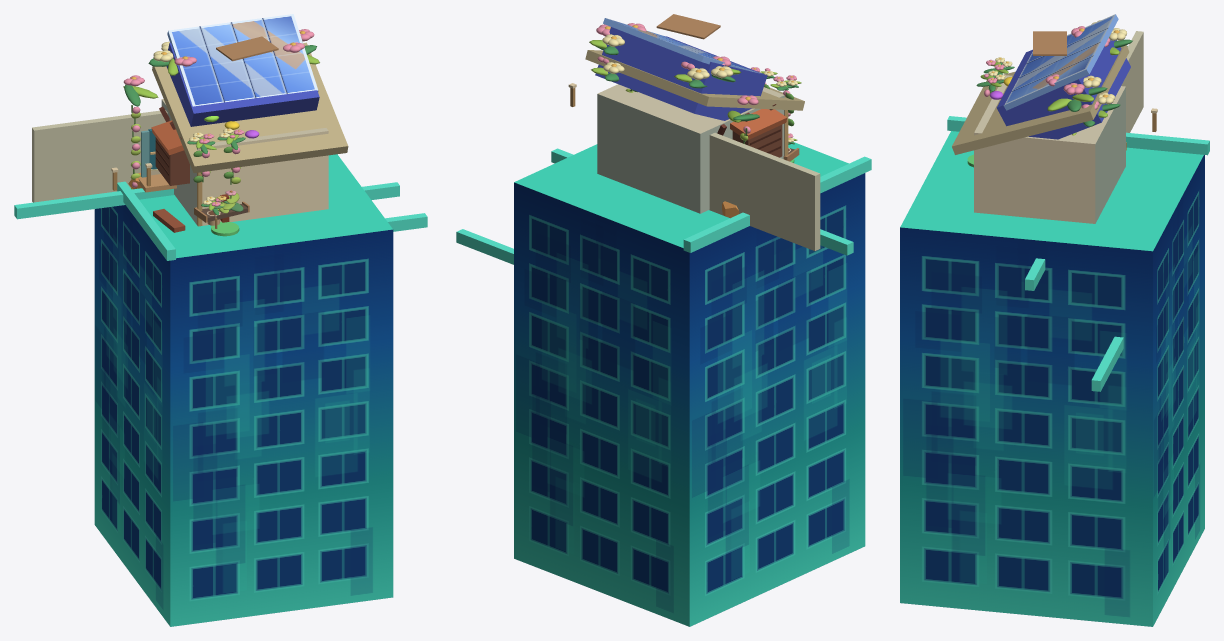
File: unit_03.glb
3 renders of one model, left to right at view 1: azimuth 30°, elevation 25°; view 2: azimuth 150°, elevation 25°; view 3: azimuth 270°, elevation 25°, orthographic. The views are drawn at different scales.
Visible parts, largest first — view 1: unit_03; view 2: unit_03; view 3: unit_03.
Part boxes in pixels (x1,y1,x2,y2): unit_03: [14, 14, 427, 626]; unit_03: [456, 14, 871, 626]; unit_03: [900, 14, 1209, 626].
Bounding box in the file's own units: 18.11 × 22.55 × 11.95.
4 materials, 2 textured.
